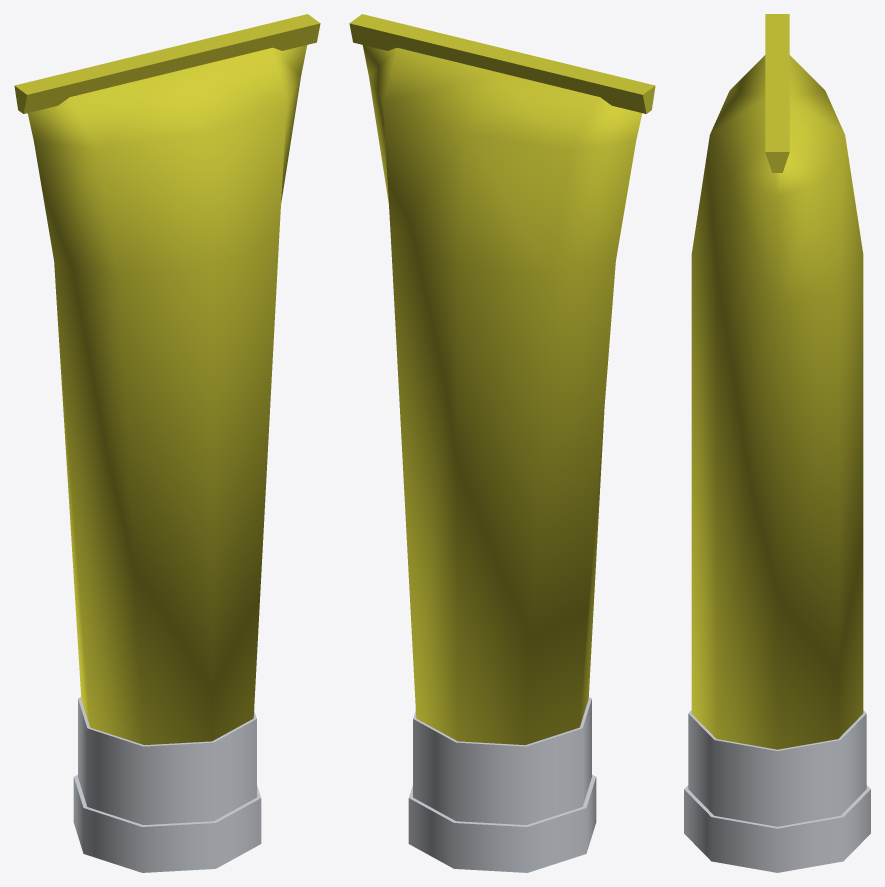
The model's file is Lotion Upright Conta.glb.
The picture shows the model from 3 angles, left to right: view 1: azimuth 30°, elevation 25°; view 2: azimuth 150°, elevation 25°; view 3: azimuth 270°, elevation 25°; orthographic projection. The views are drawn at different scales.
Parts seen in each view (by area): view 1: lotion_upright_container.001, lotion_upright_lid.001; view 2: lotion_upright_container.001, lotion_upright_lid.001; view 3: lotion_upright_container.001, lotion_upright_lid.001.
Boxes of the visible parts, x1=… form: lotion_upright_container.001: x1=14, y1=14, x2=320, y2=825; lotion_upright_lid.001: x1=73, y1=774, x2=261, y2=872; lotion_upright_container.001: x1=349, y1=14, x2=655, y2=825; lotion_upright_lid.001: x1=408, y1=774, x2=596, y2=872; lotion_upright_container.001: x1=688, y1=14, x2=866, y2=826; lotion_upright_lid.001: x1=684, y1=785, x2=870, y2=872.
Size of the model in its own units: 10.63 by 26.97 by 6.09.
Materials: 1 (1 with a texture image).
